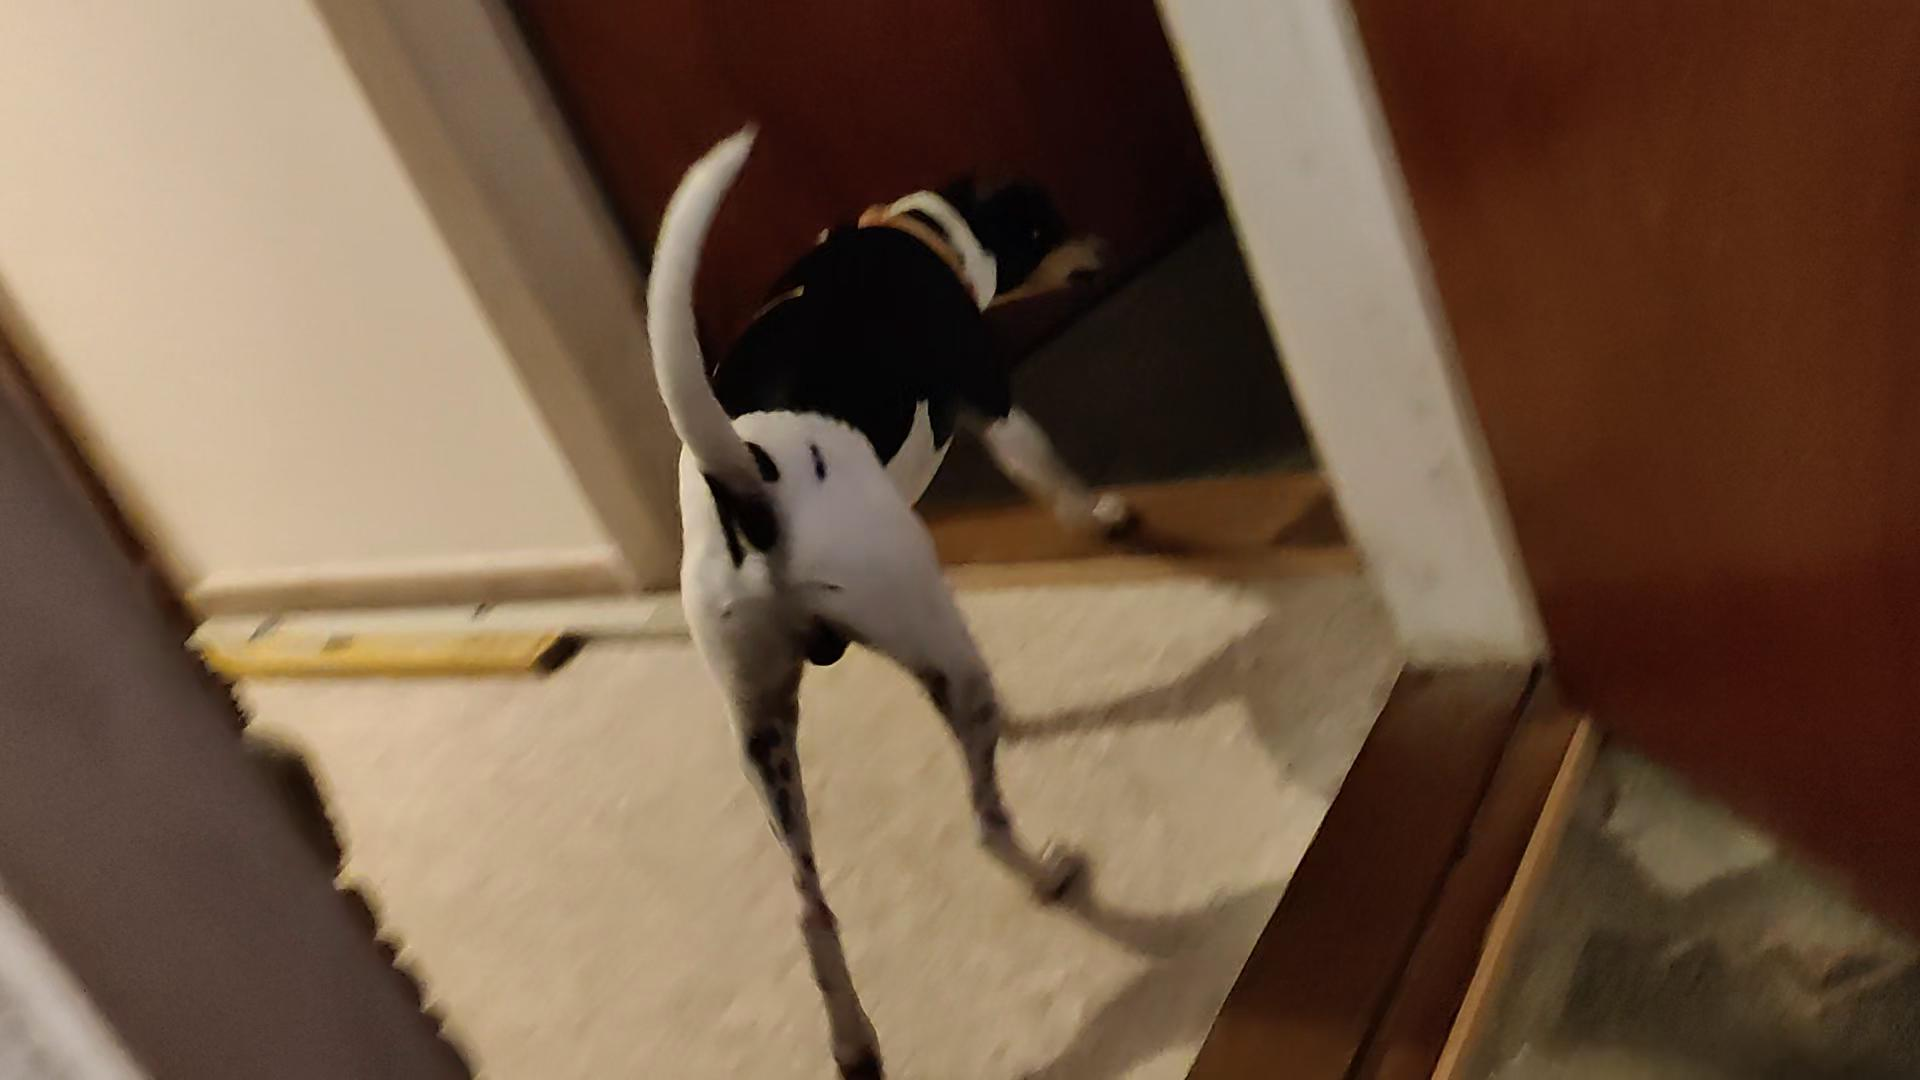Dog: (633, 123, 1151, 1079)
